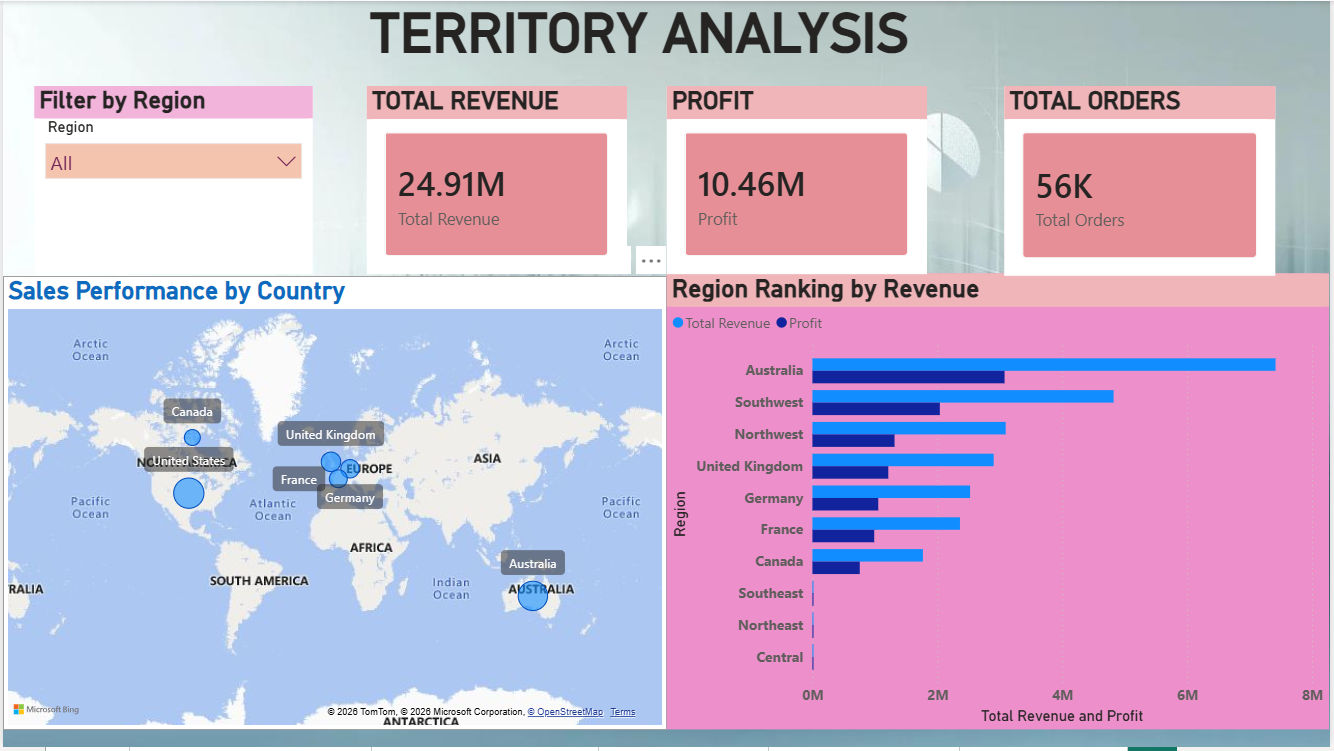

This screenshot's page, from the dashboard's own definition file:
{"tool":"powerbi","page":{"name":"Territory Analysis","canvas":[1280,720],"ordinal":5},"visuals":[{"type":"map","title":"Sales Performance by Country","fields":{"Category":["Territories.Country"],"Size":["total_sales.Total Revenue"]},"box":[0,265.2,640.7,437.8],"z":0},{"type":"clusteredBarChart","title":"Region Ranking by Revenue","fields":{"Category":["Territories.Region"],"Y":["total_sales.Total Revenue","total_sales.Profit"]},"box":[640.7,263.4,638.9,439.6],"z":1000},{"type":"cardVisual","title":"TOTAL REVENUE","fields":{"Data":["total_sales.Total Revenue"]},"box":[350.6,81.9,250.9,181.5],"z":2000},{"type":"cardVisual","title":"PROFIT","fields":{"Data":["total_sales.Profit"]},"box":[640.7,81.9,250.9,181.5],"z":3000},{"type":"cardVisual","title":"TOTAL ORDERS","fields":{"Data":["total_sales.Total Orders"]},"box":[966.4,81.9,261.6,183.3],"z":4000},{"type":"slicer","title":"Filter by Region","fields":{"Values":["Territories.Region"]},"box":[30.3,81.9,268.7,181.5],"z":5000},{"type":"textbox","title":"TERRITORY ANALYSIS","box":[348.4,0,584.5,64],"z":6000}]}

Visuals, with their boxes in screenshot pixels (x1, y1, x2, y2), scaled from the page's 1280x720 canvas onto the 1334x751 screenshot:
"Sales Performance by Country" map: (left=0, top=277, right=668, bottom=733)
"Region Ranking by Revenue" clusteredBarChart: (left=668, top=275, right=1333, bottom=733)
"TOTAL REVENUE" cardVisual: (left=365, top=85, right=627, bottom=275)
"PROFIT" cardVisual: (left=668, top=85, right=929, bottom=275)
"TOTAL ORDERS" cardVisual: (left=1007, top=85, right=1280, bottom=277)
"Filter by Region" slicer: (left=32, top=85, right=312, bottom=275)
"TERRITORY ANALYSIS" textbox: (left=363, top=0, right=972, bottom=67)
